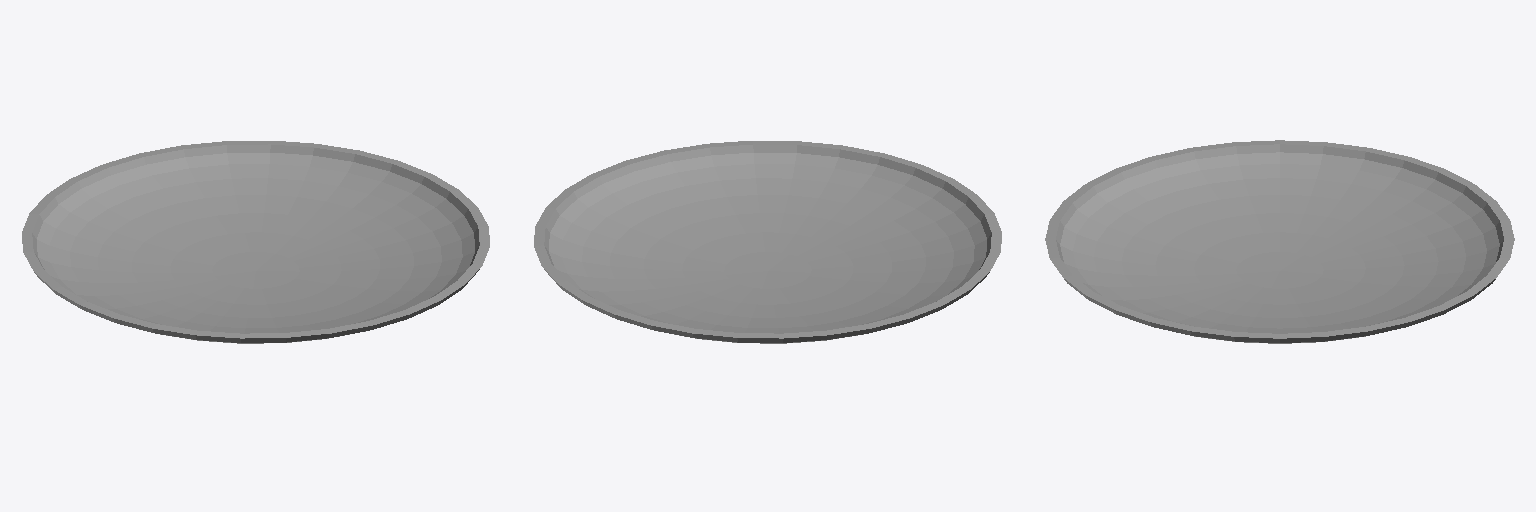
The model's file is textured_plate.obj.
3 renders of one model, left to right at view 1: azimuth 30°, elevation 25°; view 2: azimuth 150°, elevation 25°; view 3: azimuth 270°, elevation 25°, orthographic.
Parts seen in each view (by area): view 1: Sphere; view 2: Sphere; view 3: Sphere.
Part boxes in pixels (left/top/right/bottom): Sphere: left=22, top=141, right=489, bottom=343; Sphere: left=534, top=141, right=1001, bottom=343; Sphere: left=1045, top=140, right=1514, bottom=343.
Size of the model in its own units: 0.2609 by 0.0208 by 0.2609.